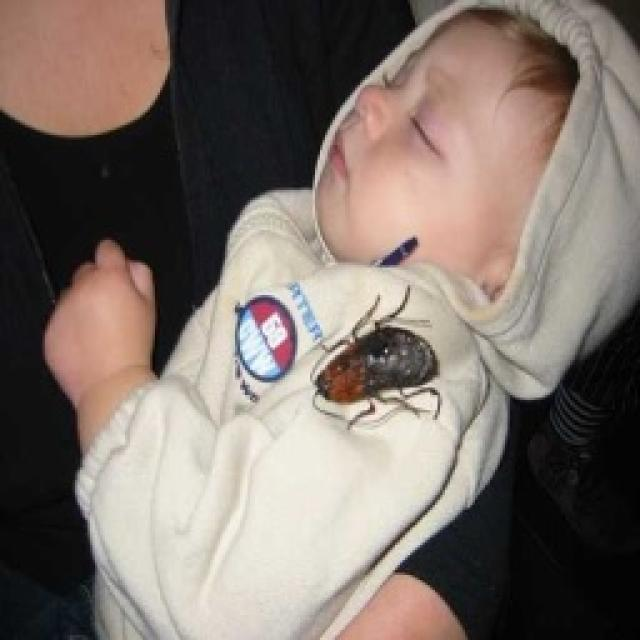cockroach: (307, 282, 449, 435)
